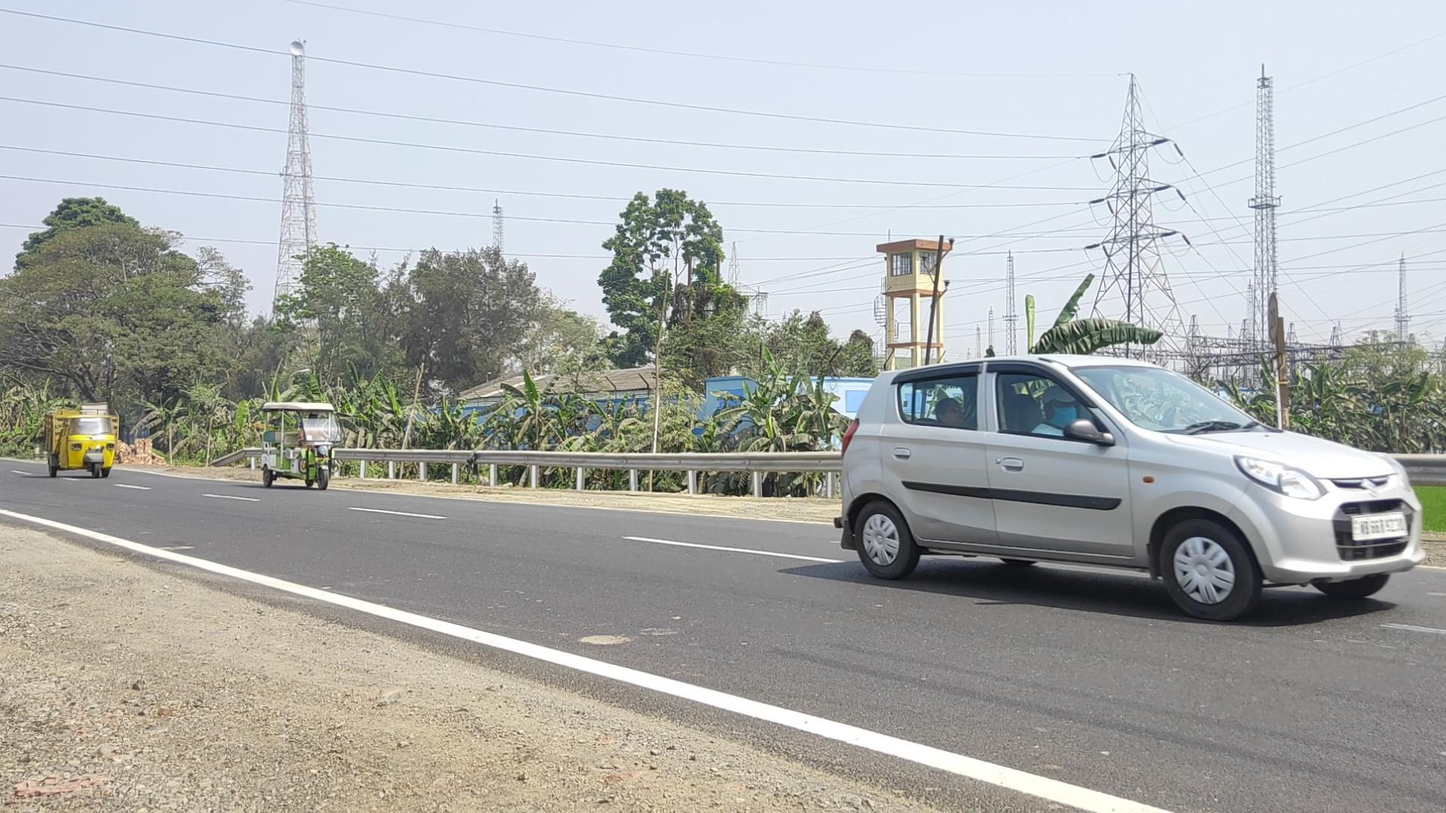Auto: (260, 401, 343, 490)
car: (834, 354, 1426, 621)
van: (44, 409, 119, 479)
